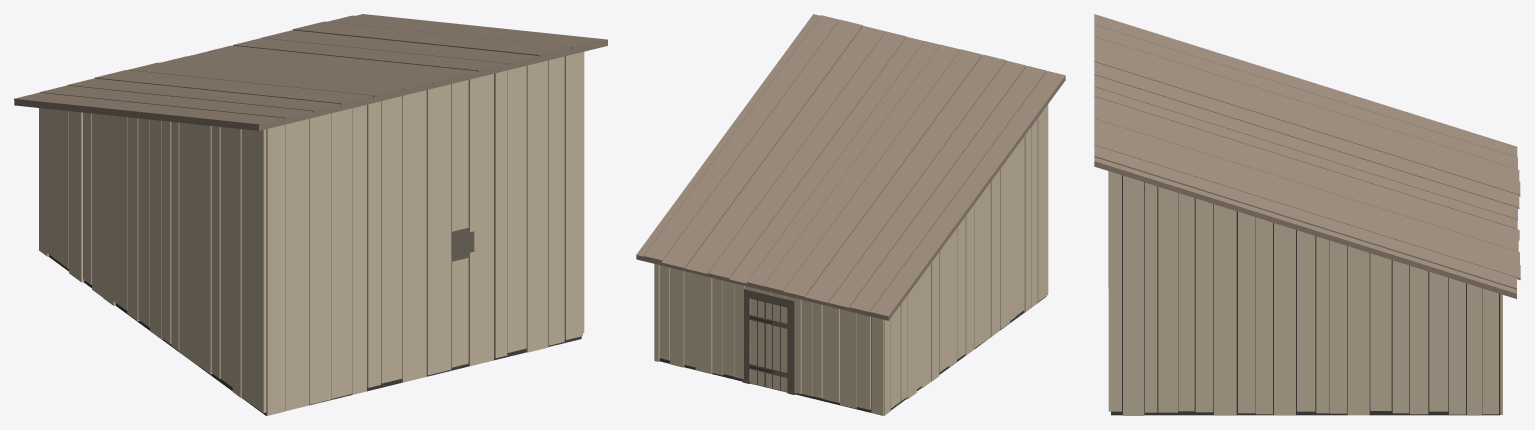
File: recon_1835_north_d2_029__inferred_1835.glb
3 views of the same model, side by side, from view 1: azimuth 30°, elevation 25°; view 2: azimuth 150°, elevation 25°; view 3: azimuth 270°, elevation 25° (orthographic). The views are drawn at different scales.
Parts seen in each view (by area): view 1: recon_1835_north_d2_029__inferred_1835; view 2: recon_1835_north_d2_029__inferred_1835; view 3: recon_1835_north_d2_029__inferred_1835.
Part boxes in pixels (bbox=[...]): recon_1835_north_d2_029__inferred_1835: bbox=[14, 14, 607, 415]; recon_1835_north_d2_029__inferred_1835: bbox=[636, 14, 1065, 415]; recon_1835_north_d2_029__inferred_1835: bbox=[1094, 14, 1520, 415].
Bounding box in the file's own units: 5.75 × 4.78 × 7.05.
